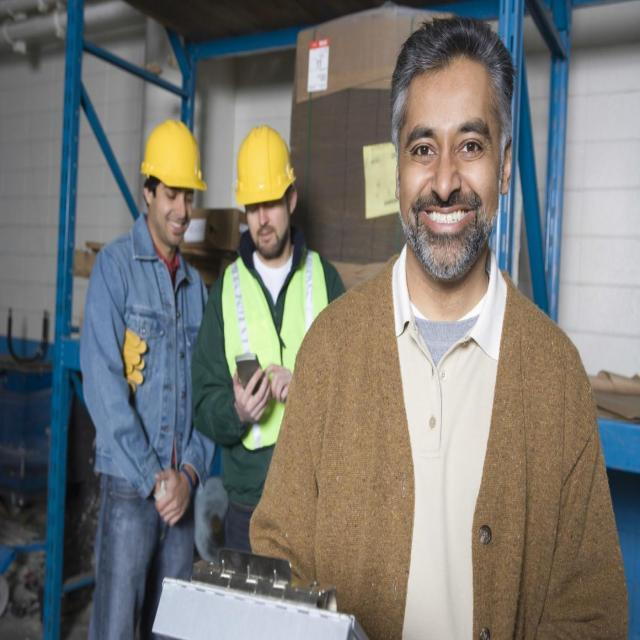reflective_jacket: (217, 242, 332, 452)
safety_helmet: (231, 116, 296, 209), (138, 111, 209, 196)
